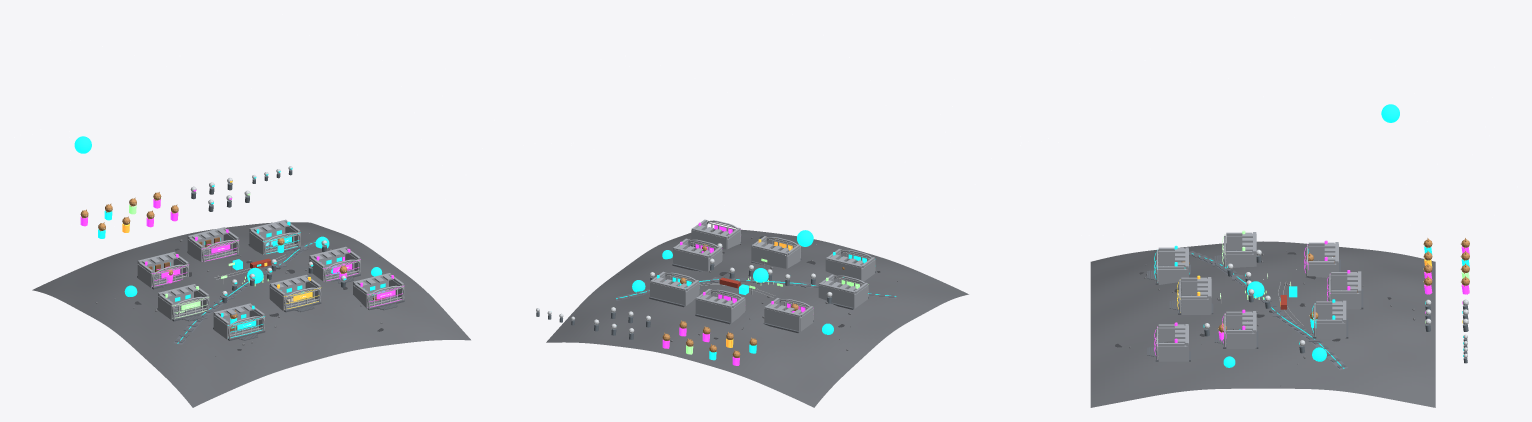
The model's file is lunar-city-baseline.glb.
The picture shows the model from 3 angles, left to right: view 1: azimuth 30°, elevation 25°; view 2: azimuth 150°, elevation 25°; view 3: azimuth 270°, elevation 25°; orthographic projection. The views are drawn at different scales.
Visible parts, largest first — view 1: terrain-colony-basin; view 2: terrain-colony-basin, archive_back_wall, research-lab_back_wall, library_back_wall, council-hall_back_wall, triage-clinic_back_wall, arts-studio_back_wall, engineering-workshop_back_wall; view 3: terrain-colony-basin, council-hall_right_wall, research-lab_right_wall, review-office_right_wall, triage-clinic_right_wall.
Boxes of the visible parts, left/top/right/bottom form: terrain-colony-basin: left=32, top=222, right=470, bottom=407; terrain-colony-basin: left=546, top=229, right=968, bottom=407; archive_back_wall: left=695, top=299, right=732, bottom=322; research-lab_back_wall: left=650, top=282, right=686, bottom=305; library_back_wall: left=764, top=308, right=800, bottom=332; council-hall_back_wall: left=673, top=249, right=709, bottom=271; triage-clinic_back_wall: left=751, top=246, right=787, bottom=268; arts-studio_back_wall: left=818, top=285, right=855, bottom=308; engineering-workshop_back_wall: left=825, top=259, right=862, bottom=281; terrain-colony-basin: left=1090, top=241, right=1435, bottom=407; council-hall_right_wall: left=1226, top=332, right=1255, bottom=348; research-lab_right_wall: left=1316, top=322, right=1345, bottom=338; review-office_right_wall: left=1158, top=345, right=1187, bottom=361; triage-clinic_right_wall: left=1181, top=298, right=1210, bottom=314.
Size of the model in its own units: 64.7 by 33.84 by 66.41.
